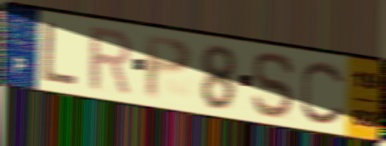8: (197, 43, 239, 113)
C: (298, 58, 347, 127)
L: (41, 19, 81, 88)
P: (143, 33, 195, 103)
R: (87, 24, 134, 98)
S: (250, 50, 297, 122)
